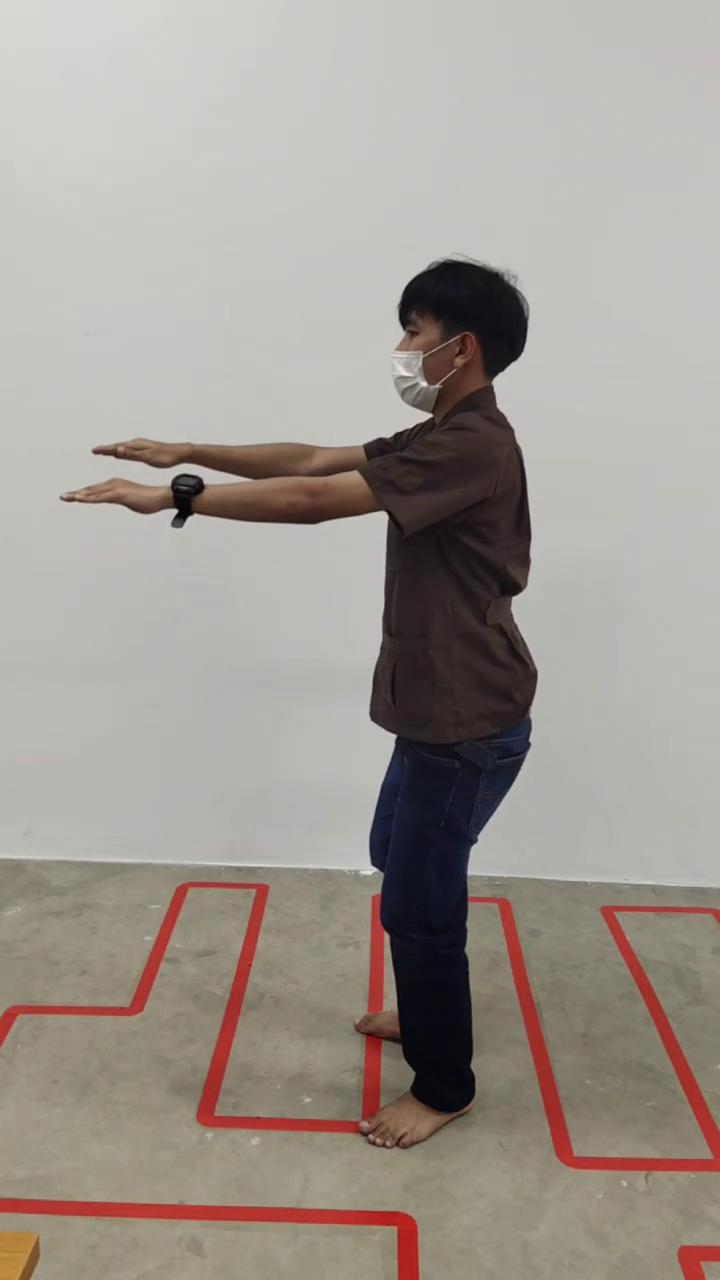squat up: (67, 258, 539, 1148)
